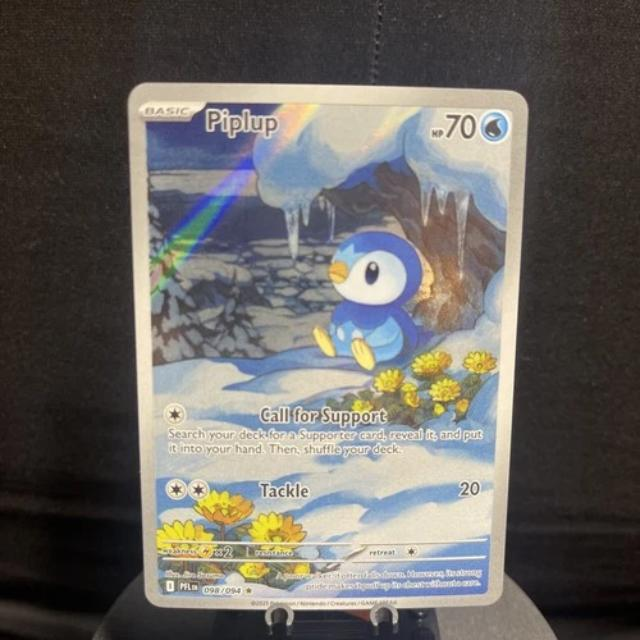Card: (119, 76, 535, 616)
Name: (198, 104, 278, 138)
